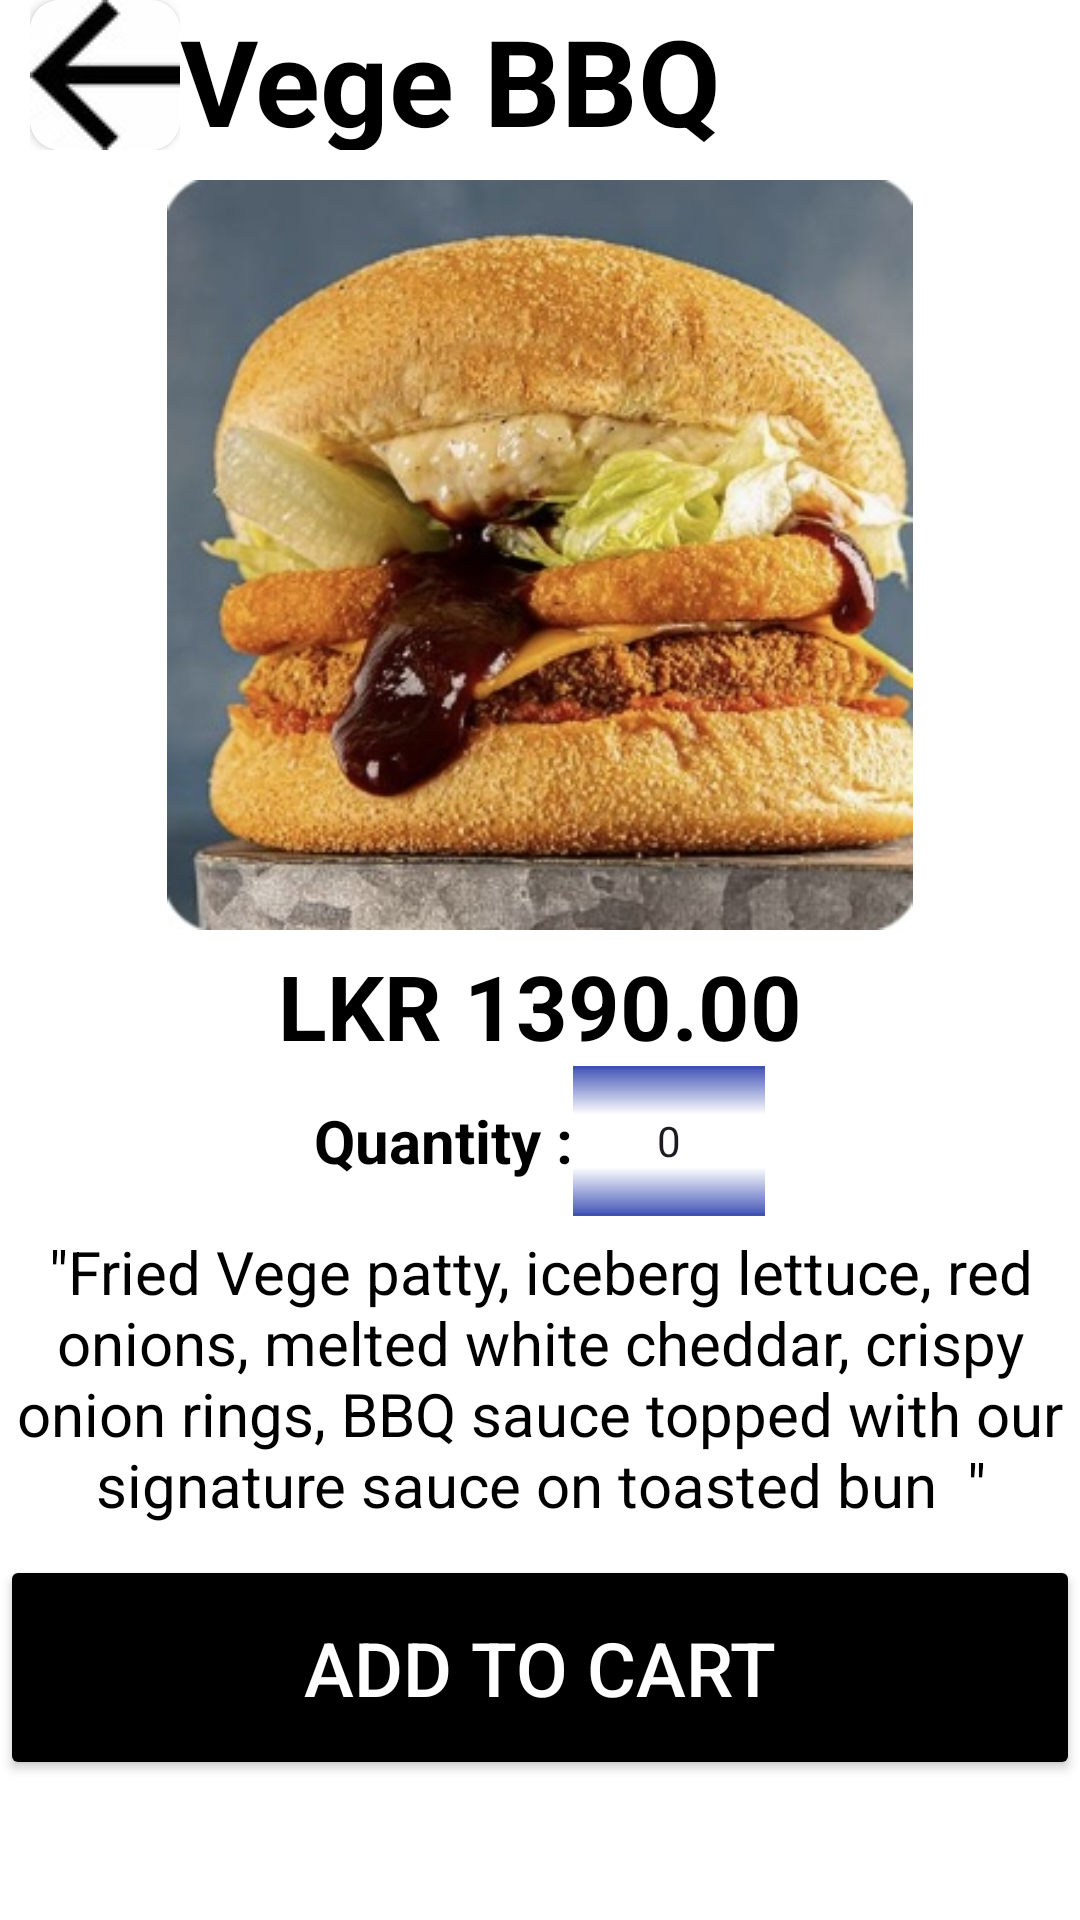

Icon bounding boxes for this 1080px x 1920px phone screenshot, format [x1=x1, y1=y1, x2=x2, y2=y2]:
back: [x1=30, y1=0, x2=180, y2=150]
